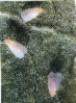whitefly: (3, 37, 28, 60), (46, 70, 63, 99), (19, 6, 45, 23)
